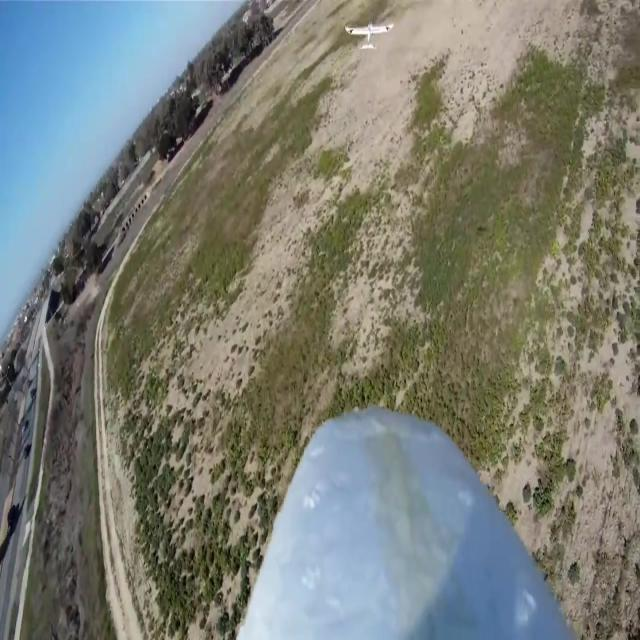iha: (344, 23, 395, 49)
